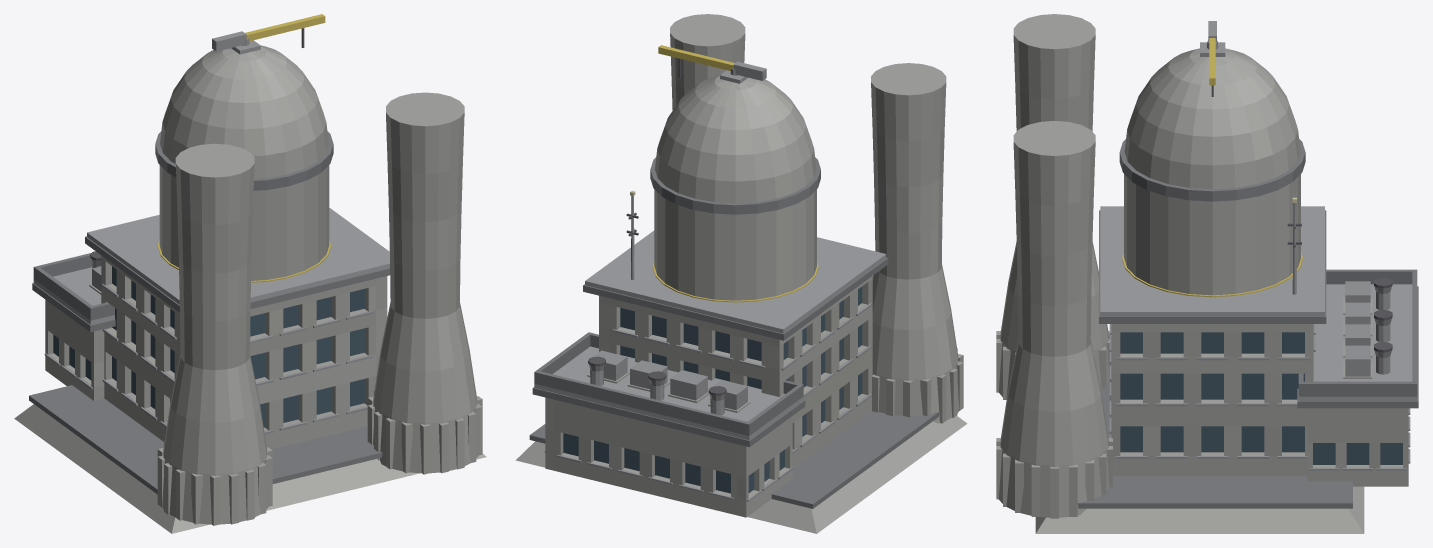
File: soviet_nuclear.glb
The picture shows the model from 3 angles, left to right: view 1: azimuth 30°, elevation 25°; view 2: azimuth 150°, elevation 25°; view 3: azimuth 270°, elevation 25°; orthographic projection. The views are drawn at different scales.
Visible parts, largest first — view 1: cool_l_tower, cool_r_tower, reactor_wall, shield_dome, plinth_cap, containment, reactor_deck, plinth, reactor_glass, cool_l_tower_legs, cool_r_tower_legs, turbine_wall (+7 smaller); view 2: cool_l_tower, reactor_wall, shield_dome, turbine_wall, containment, reactor_deck, plinth_cap, plinth, turbine_parapet, cool_r_tower, turbine_deck, reactor_glass (+10 smaller); view 3: cool_r_tower, reactor_wall, shield_dome, containment, cool_l_tower, reactor_deck, reactor_glass, plinth_cap, plinth, turbine_wall, turbine_deck, turbine_parapet (+12 smaller).
Part boxes in pixels (box(x1,y1,x2,y2)): cool_l_tower: box(162, 143, 268, 524); cool_r_tower: box(373, 92, 478, 473); reactor_wall: box(101, 255, 387, 449); shield_dome: box(160, 45, 328, 178); plinth_cap: box(29, 385, 382, 494); containment: box(159, 165, 329, 280); reactor_deck: box(87, 208, 389, 304); plinth: box(14, 404, 486, 533); reactor_glass: box(112, 266, 364, 427); cool_l_tower_legs: box(157, 442, 272, 525); cool_r_tower_legs: box(367, 390, 482, 474); turbine_wall: box(45, 300, 104, 400); cool_l_tower: box(871, 63, 959, 423); reactor_wall: box(599, 276, 872, 468); shield_dome: box(655, 75, 816, 203); turbine_wall: box(545, 397, 792, 517); containment: box(654, 189, 816, 300); reactor_deck: box(585, 230, 886, 333); plinth_cap: box(529, 411, 939, 508); plinth: box(515, 416, 967, 533); turbine_parapet: box(534, 332, 803, 435); cool_r_tower: box(670, 14, 745, 110); turbine_deck: box(534, 346, 803, 440); reactor_glass: box(620, 286, 862, 436); cool_r_tower: box(998, 121, 1109, 517); reactor_wall: box(1111, 324, 1313, 476); shield_dome: box(1124, 48, 1300, 189); containment: box(1124, 174, 1300, 295); cool_l_tower: box(998, 14, 1109, 398); reactor_deck: box(1100, 206, 1324, 316); reactor_glass: box(1120, 332, 1304, 452); plinth_cap: box(1077, 381, 1352, 508); plinth: box(1035, 486, 1364, 533); turbine_wall: box(1307, 408, 1408, 486); turbine_deck: box(1298, 284, 1417, 400); turbine_parapet: box(1298, 269, 1417, 396).
Size of the model in its own units: 30 by 36.45 by 33.41.
